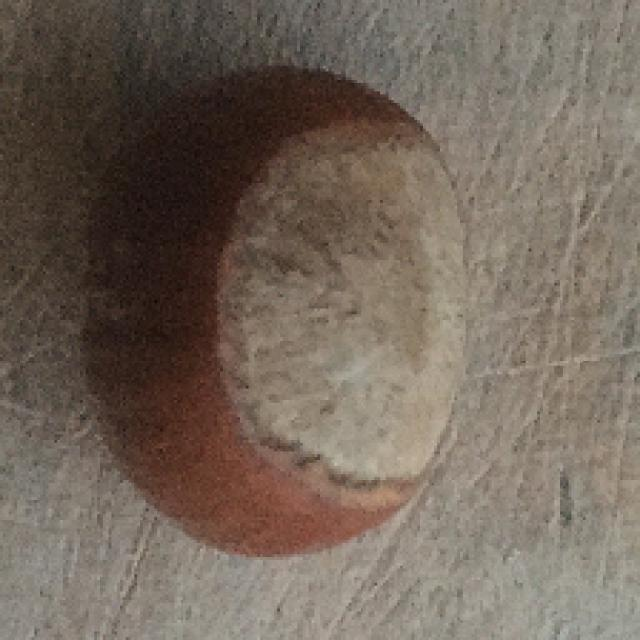qualityHazelnut: (81, 56, 474, 572)
